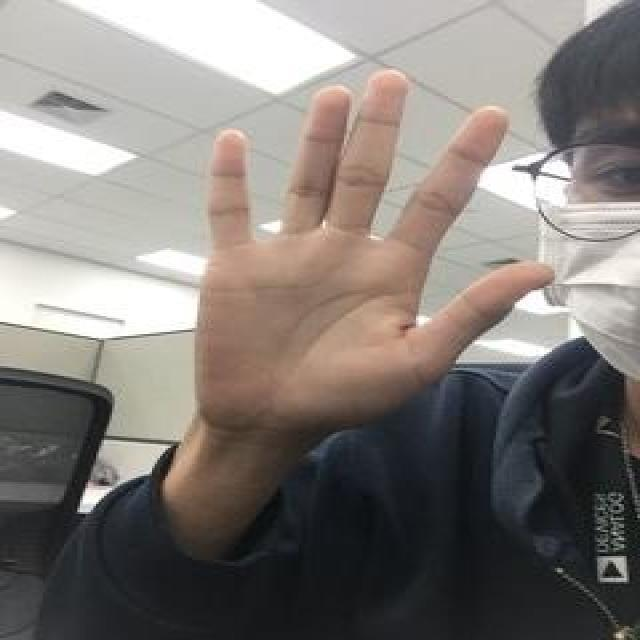hand: (192, 68, 555, 436)
